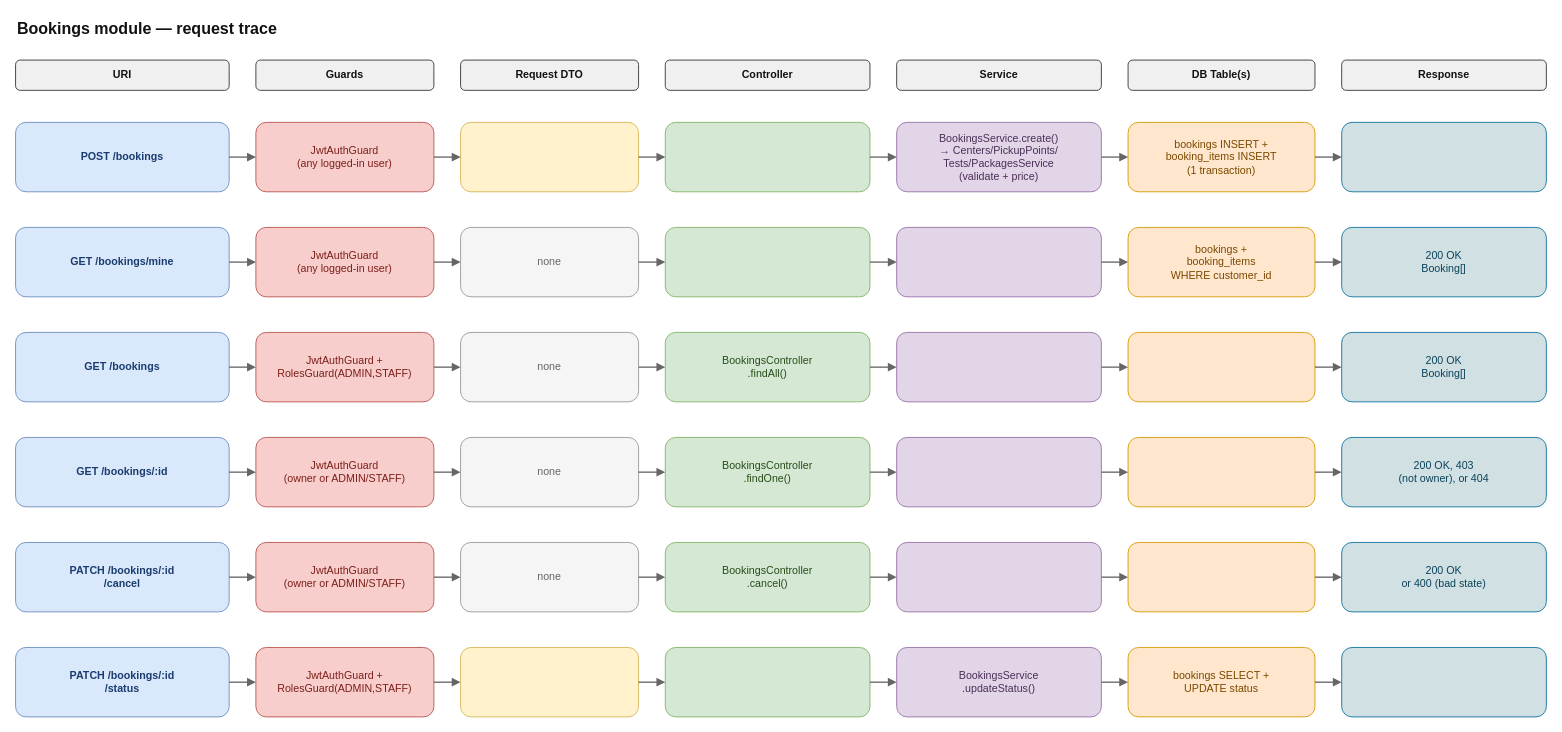
The diagram is 1562 pixels wide and 732 high, and some of its shapes have lost their labels. Each missing label, with the centre of its shape:
"200 OK" belongs at point (1443, 682).
"201 Created or 400/404" belongs at point (1443, 156).
"bookings + booking_items (all rows)" belongs at point (1221, 367).
"bookings SELECT + UPDATE status= CANCELLED" belongs at point (1221, 577).
"bookings SELECT WHERE id" belongs at point (1221, 472).
"BookingsController .create()" belongs at point (767, 156).
"BookingsController .findMine()" belongs at point (767, 262).
"BookingsController .updateStatus()" belongs at point (767, 682).
"BookingsService .cancel()" belongs at point (998, 577).
"BookingsService .findAll()" belongs at point (998, 367).
"BookingsService .findAllForCustomer()" belongs at point (998, 262).
"BookingsService .findOneForUser()" belongs at point (998, 472).
"CreateBookingDto (items[], centerId, collectionMode, scheduledAt)" belongs at point (549, 156).
"UpdateBookingStatusDto" belongs at point (549, 682).
